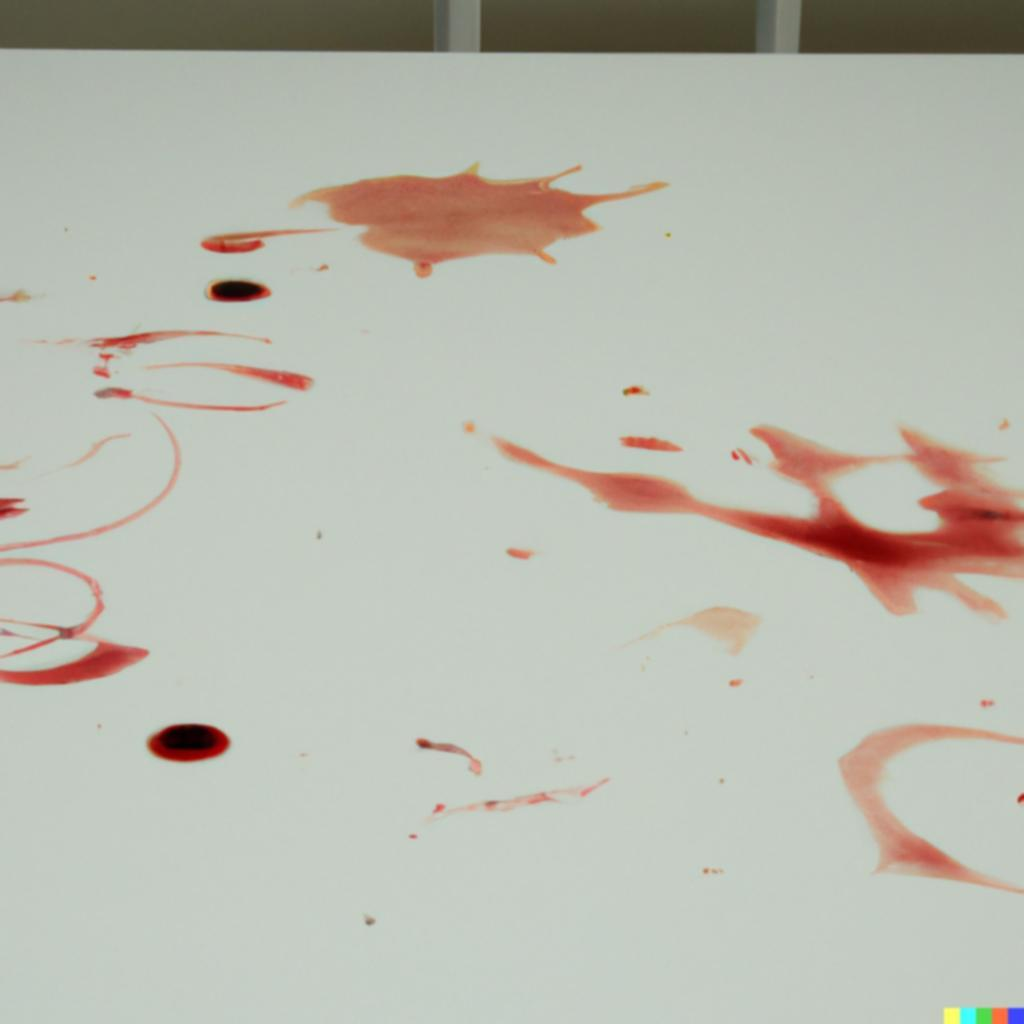Fire: (145, 723, 229, 762), (203, 278, 272, 302)
